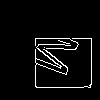M: (30, 26, 89, 82)
